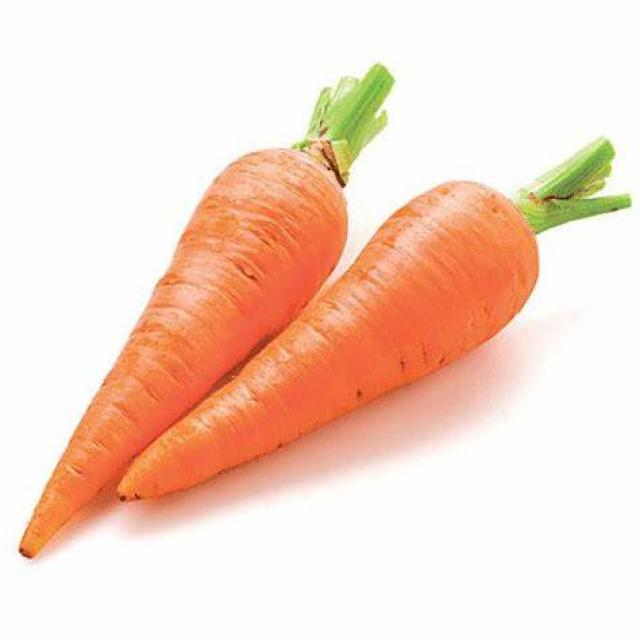Carrot: (122, 134, 623, 497), (21, 143, 344, 555)
